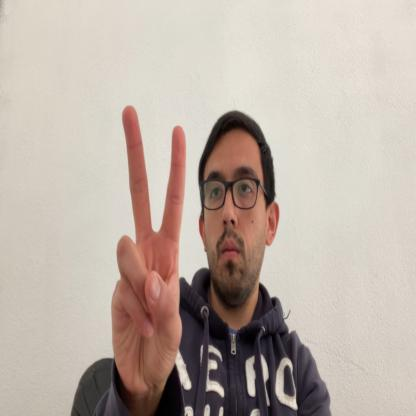V: (110, 104, 186, 388)
